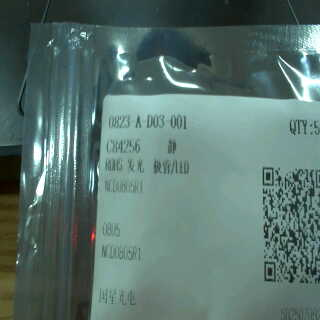LED: (123, 158, 198, 178)
